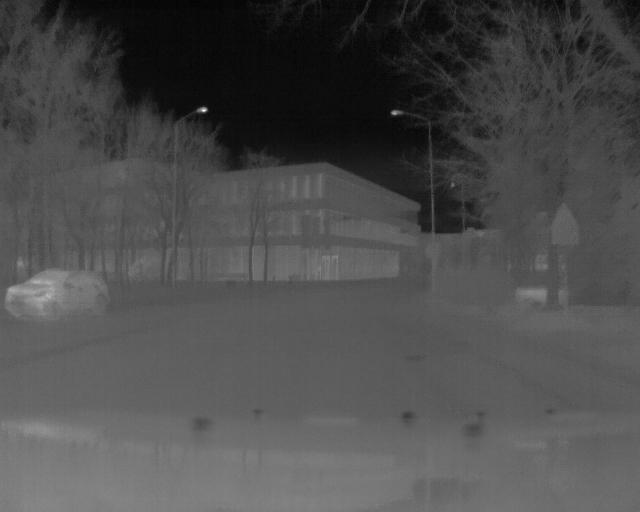car: (4, 267, 116, 321)
